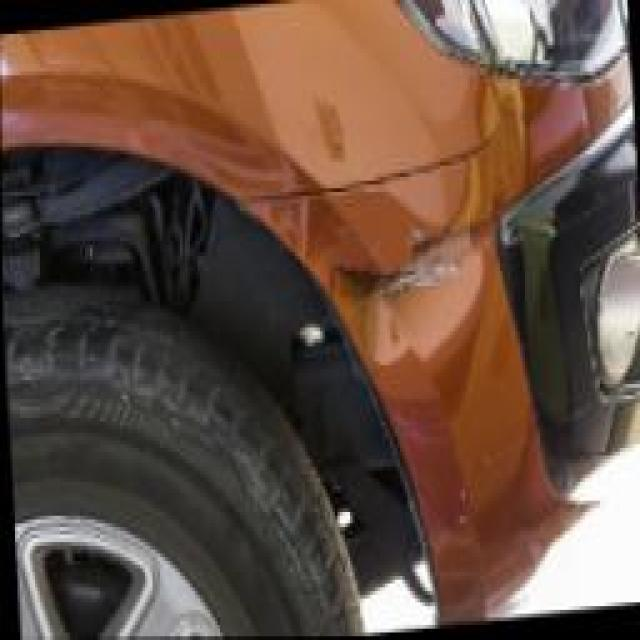Bumper: (282, 162, 640, 629)
